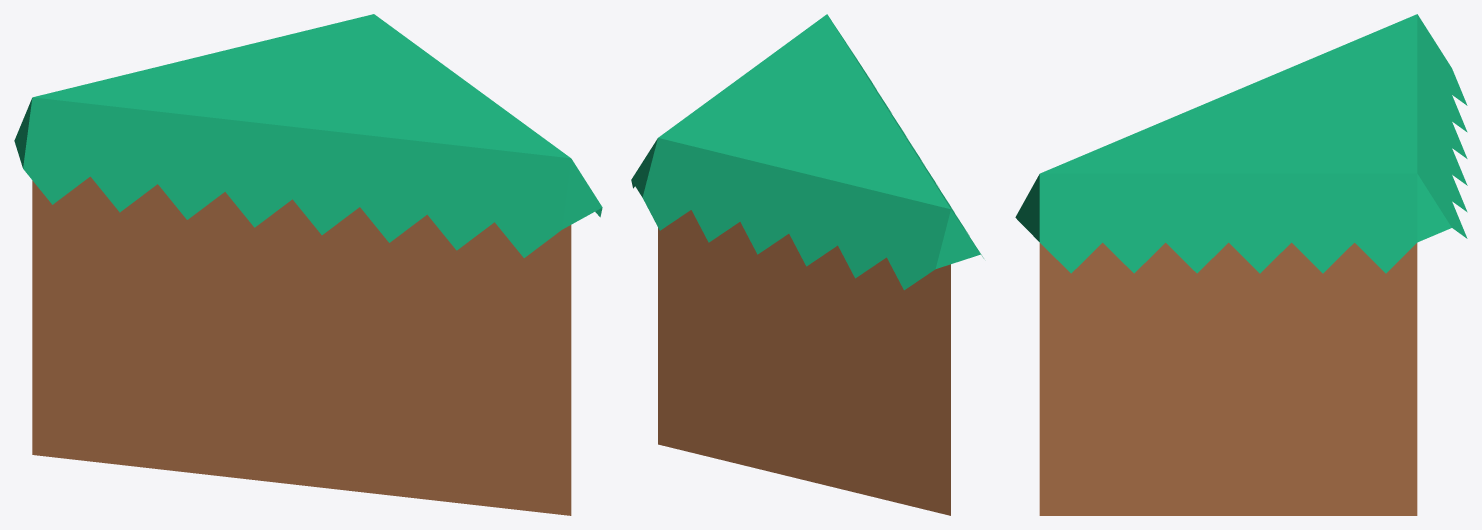
The model's file is blockCornerLarge.fbx.
The picture shows the model from 3 angles, left to right: view 1: azimuth 30°, elevation 25°; view 2: azimuth 150°, elevation 25°; view 3: azimuth 270°, elevation 25°; orthographic projection. The views are drawn at different scales.
Visible parts, largest first — view 1: blockCornerLarge; view 2: blockCornerLarge; view 3: blockCornerLarge.
Part boxes in pixels (x1,y1,x2,y2): blockCornerLarge: [14, 14, 602, 515]; blockCornerLarge: [631, 14, 983, 515]; blockCornerLarge: [1015, 14, 1467, 515].
Size of the model in its own units: 11.98 by 10 by 11.98.
